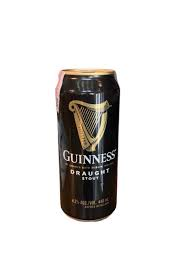can: (54, 67, 120, 223)
